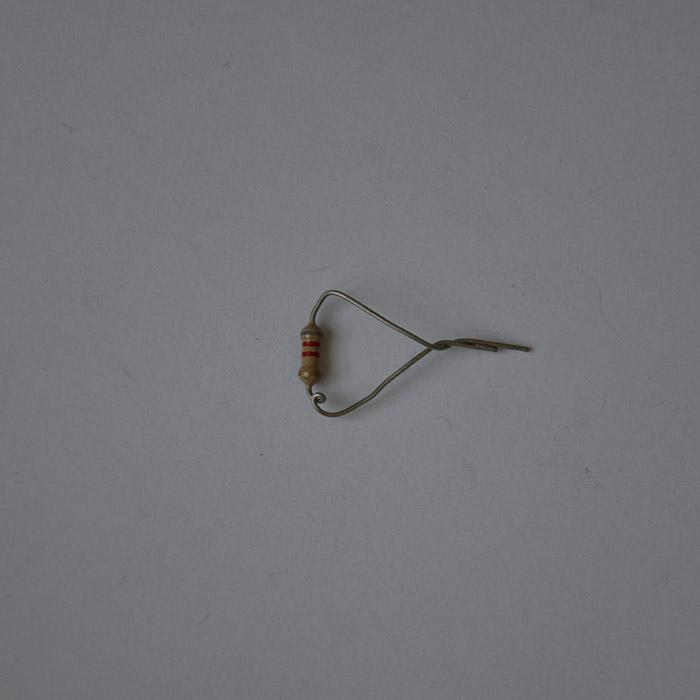resistor: (297, 322, 323, 389)
